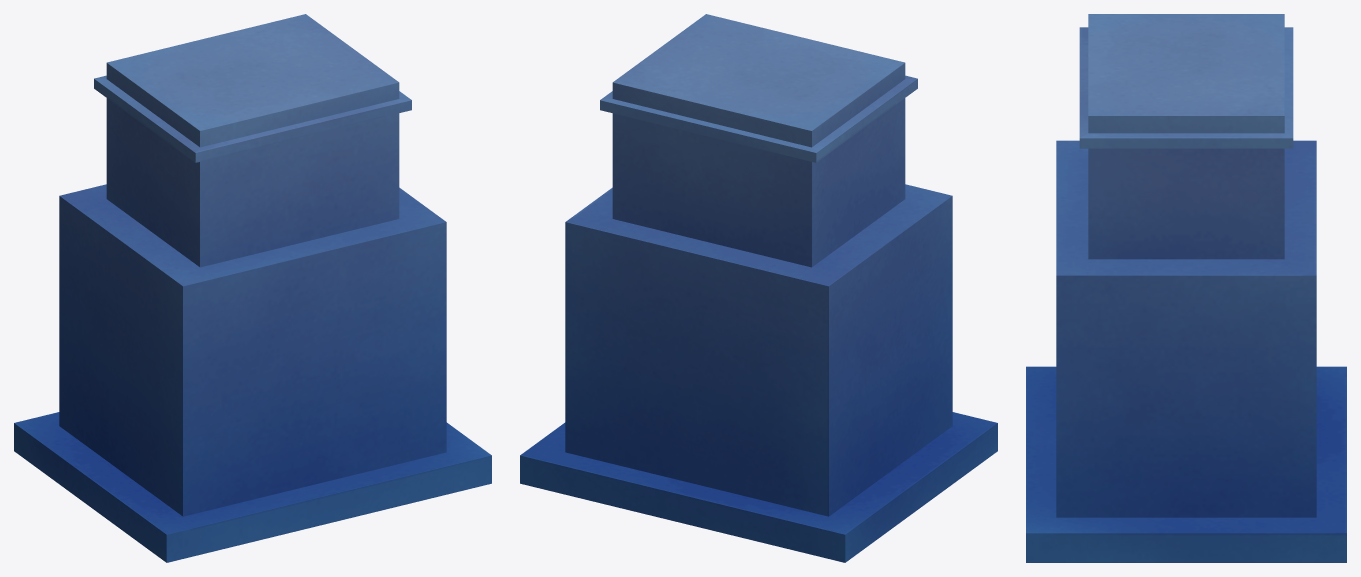
Rendered from Palace_2.glb.
3 renders of one model, left to right at view 1: azimuth 30°, elevation 25°; view 2: azimuth 150°, elevation 25°; view 3: azimuth 270°, elevation 25°, orthographic. The views are drawn at different scales.
Visible parts, largest first — view 1: Palace_2; view 2: Palace_2; view 3: Palace_2.
Boxes of the visible parts, bbox=[...] form: Palace_2: bbox=[14, 14, 491, 562]; Palace_2: bbox=[520, 14, 997, 562]; Palace_2: bbox=[1026, 14, 1346, 562].
Bounding box in the file's own units: 1.17 × 1.36 × 0.9508.
1 material, 1 textured.
